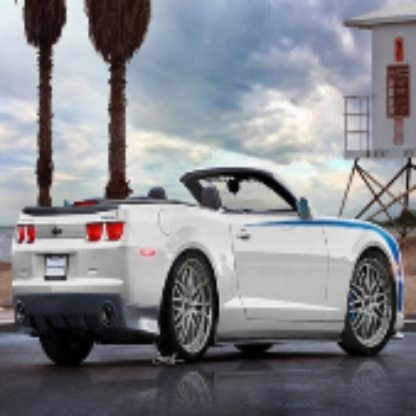Vehicle: (11, 165, 407, 366)
